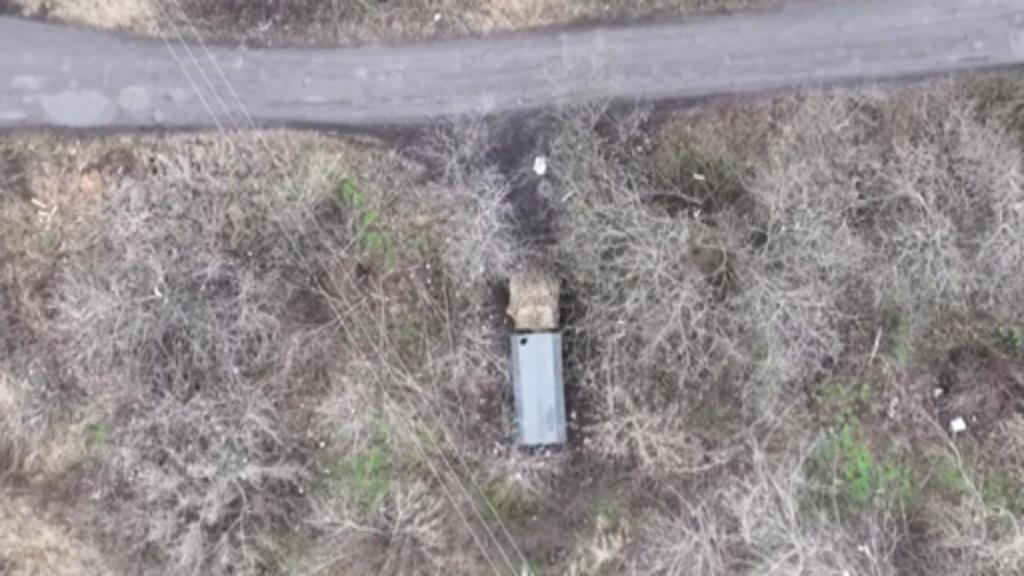TRUCK: (500, 268, 580, 455)
